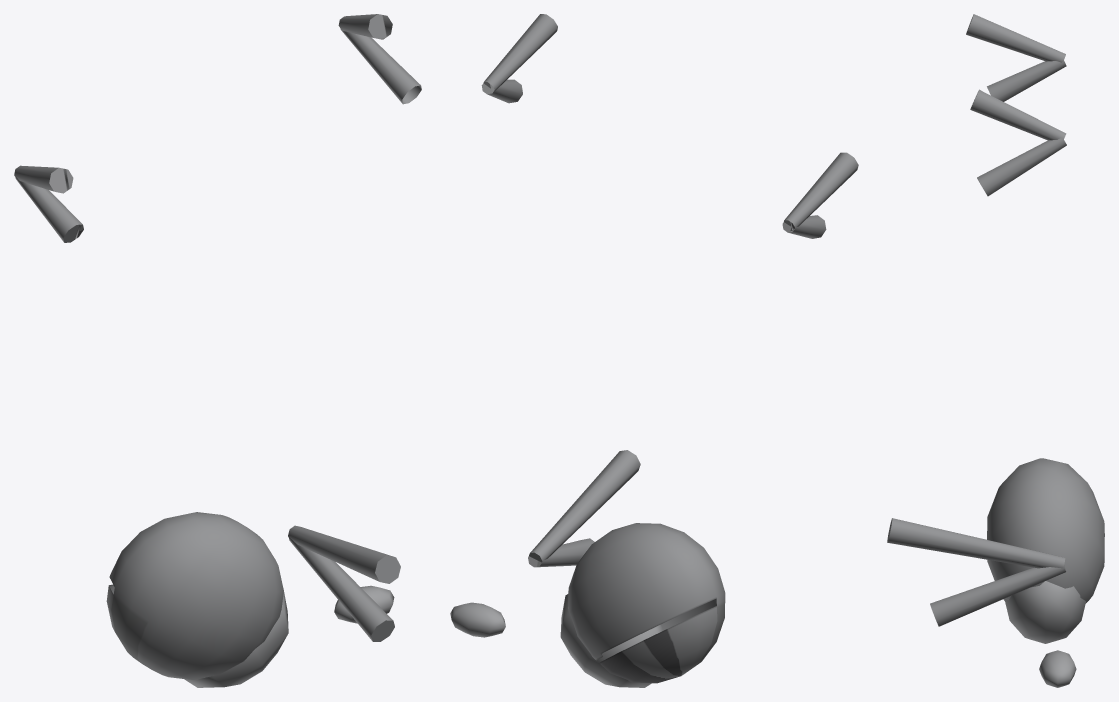
3 views of the same model, side by side, from view 1: azimuth 30°, elevation 25°; view 2: azimuth 150°, elevation 25°; view 3: azimuth 270°, elevation 25° (orthographic). The views are drawn at different scales.
Size of the model in its own units: 0.5489 by 0.8927 by 0.2928.
